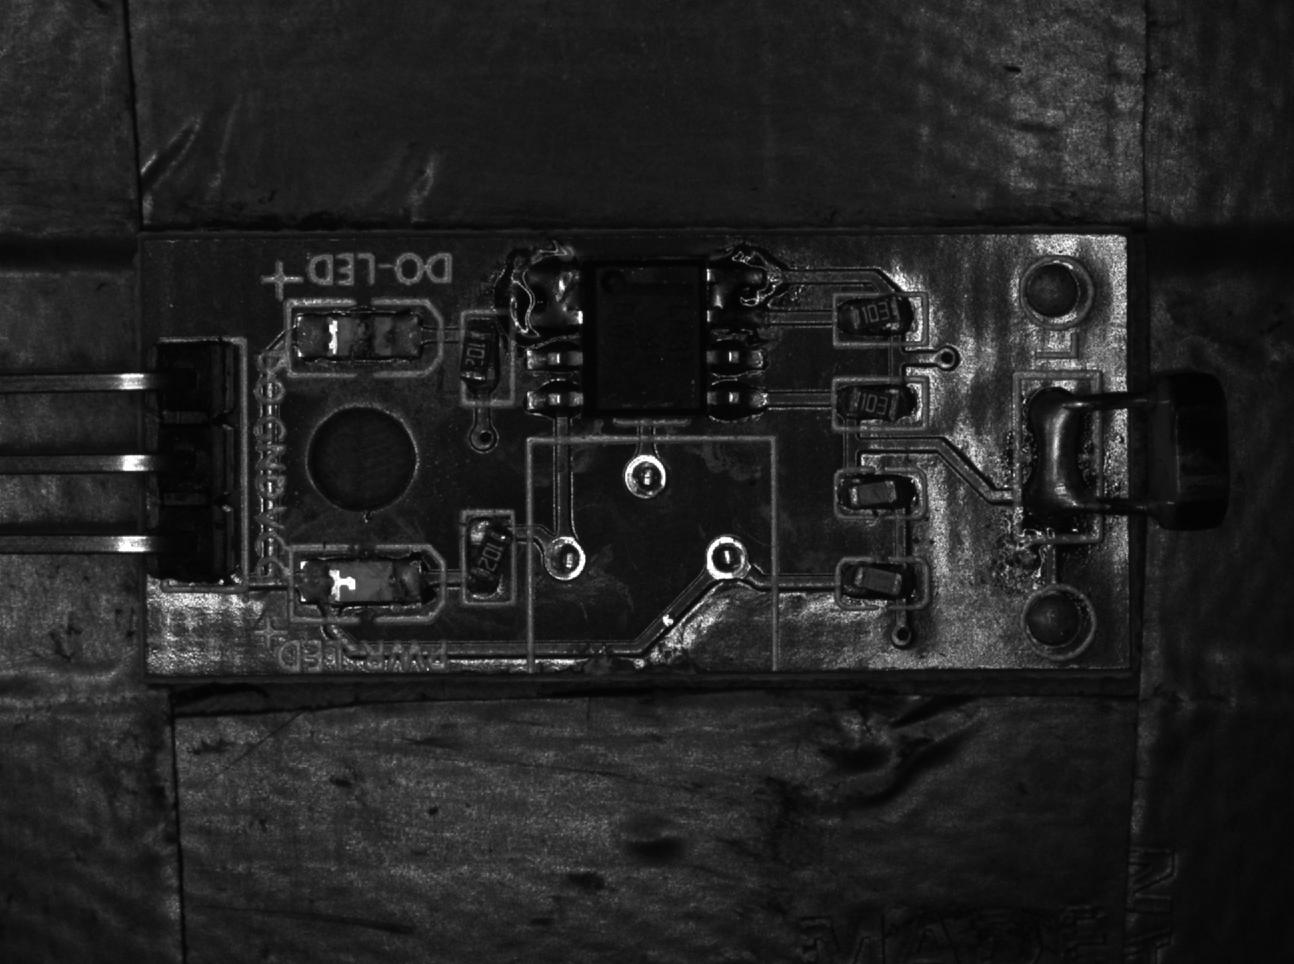bridge: (1013, 372, 1099, 542), (702, 255, 772, 329), (522, 254, 584, 337)
lifted: (832, 375, 926, 429), (459, 310, 511, 407), (830, 294, 928, 344), (461, 513, 515, 602), (837, 554, 924, 608)
ok: (830, 469, 922, 524)
